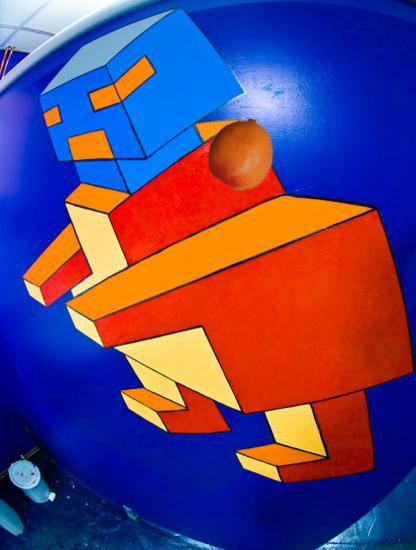Apricot: (205, 119, 277, 191)
